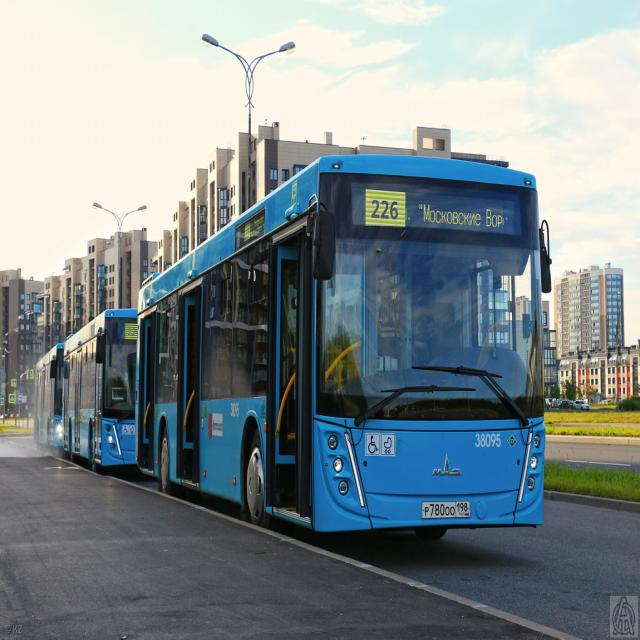number-of-bus: (371, 196, 404, 223)
